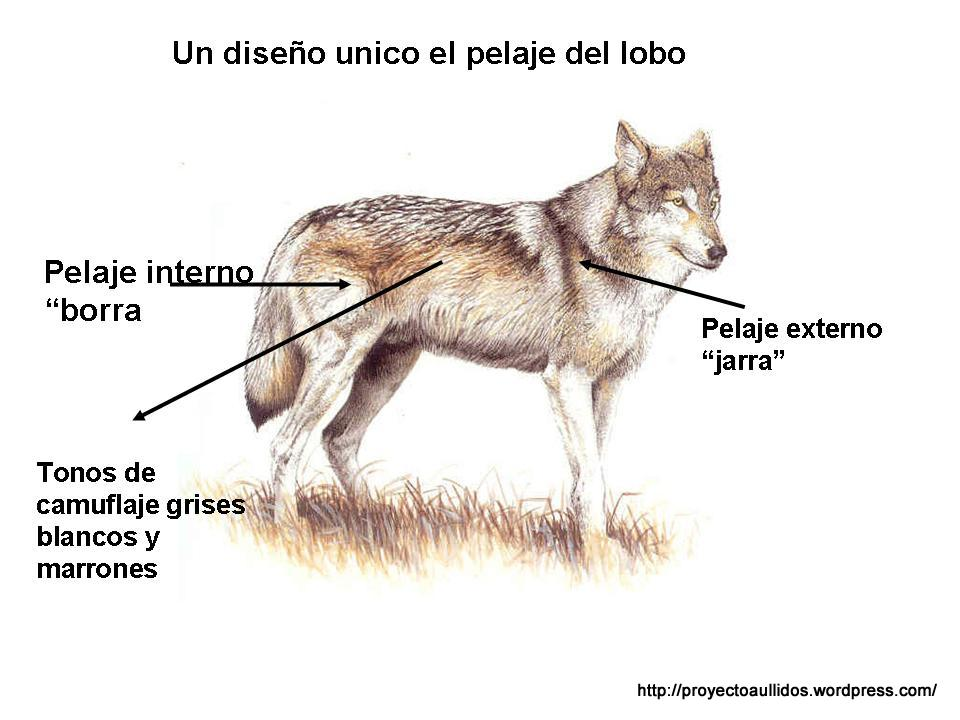Lobo: (226, 122, 752, 583)
